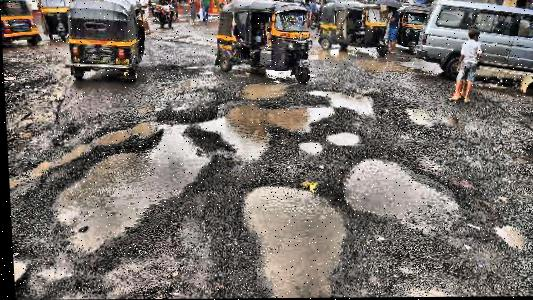pothole: (41, 113, 212, 253), (235, 182, 344, 298), (338, 155, 460, 232), (192, 100, 341, 161), (306, 87, 375, 116), (236, 80, 289, 102), (490, 222, 529, 250), (324, 129, 361, 146), (294, 140, 321, 153)
